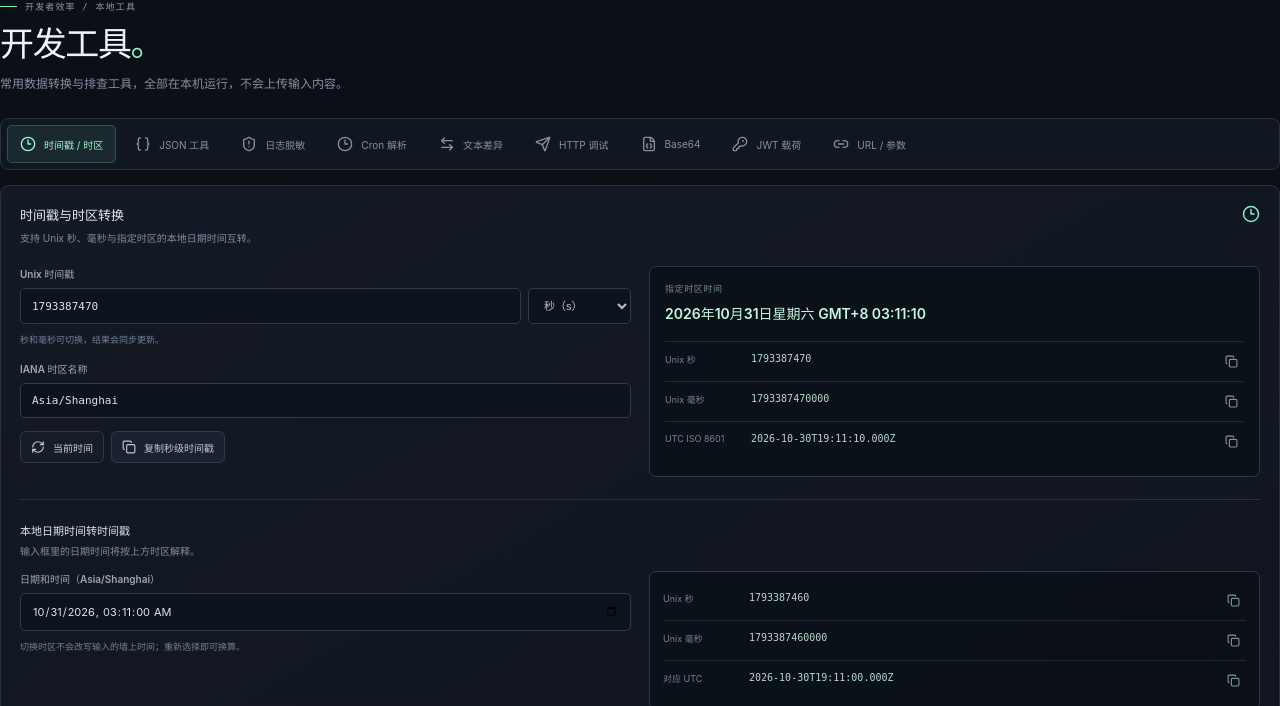
HTTP debugger panel › shows the redirect count, final URL and binary warning
Click the tab with class "toolkit-tab" showing "HTTP 调试" at [572, 144], box [522,125,622,163]
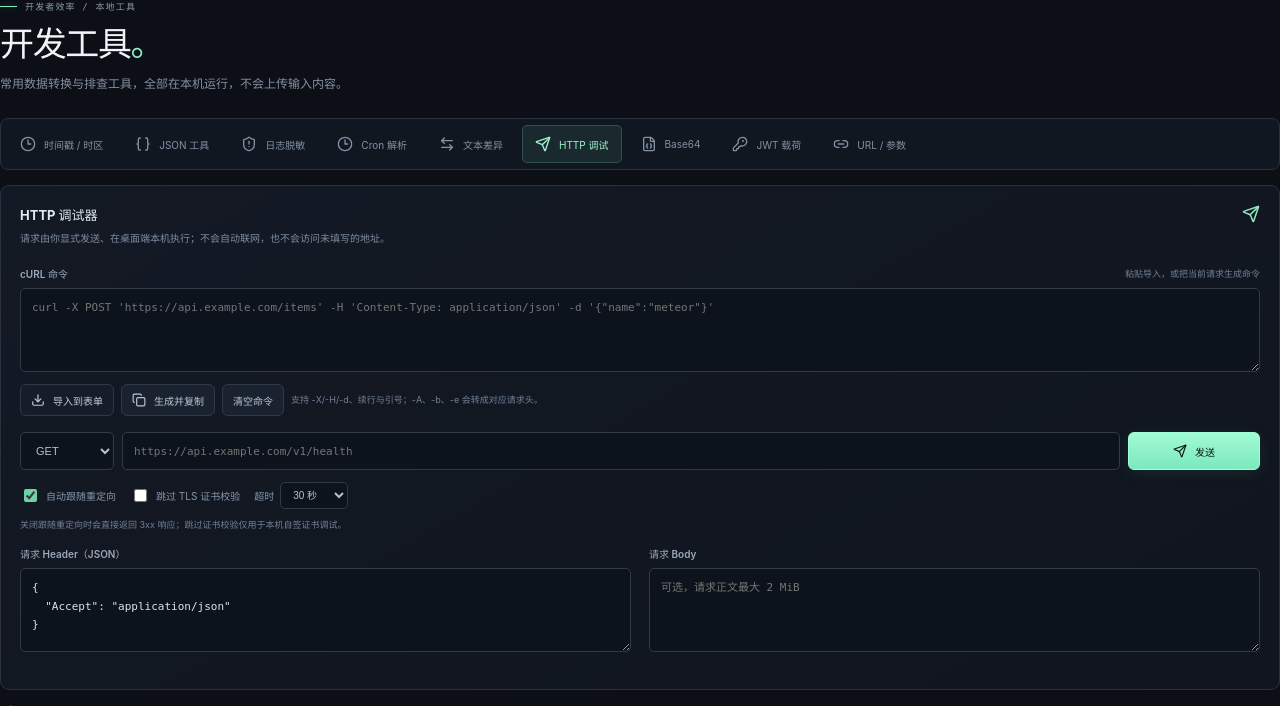
Type "https://example.com/start" into the field named "请求 URL" at [621, 451], box [122,432,1120,470]
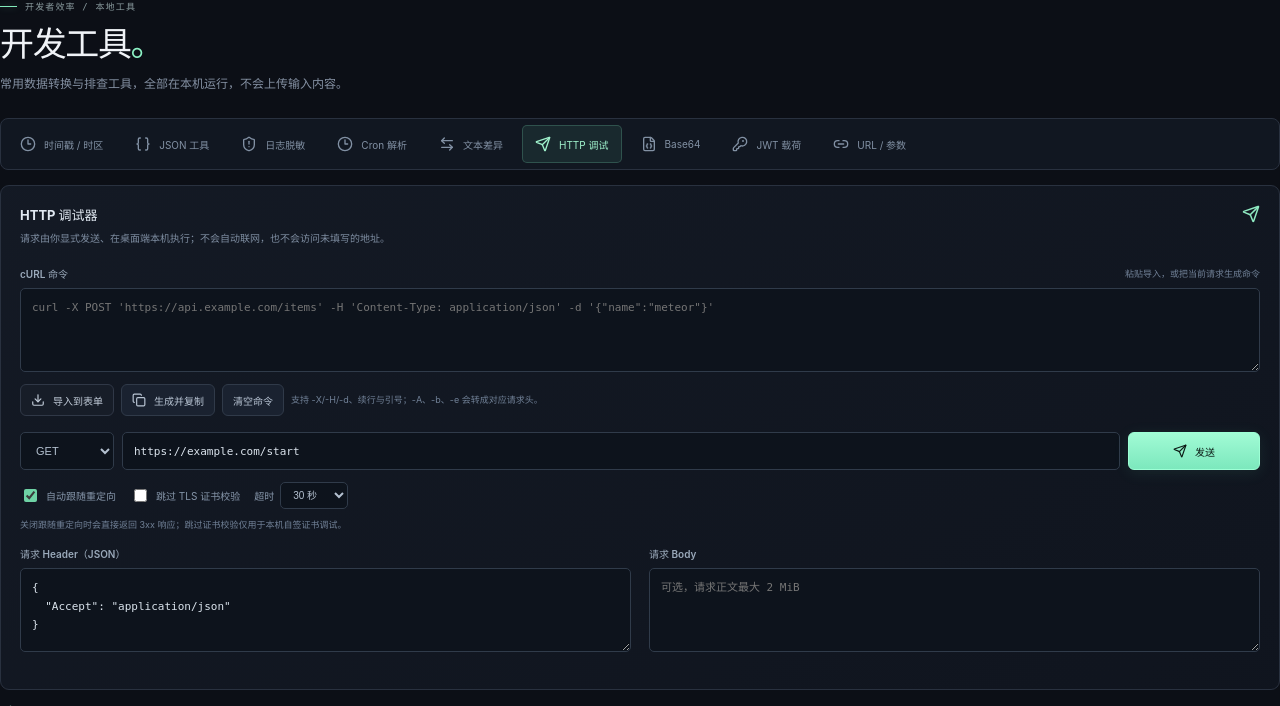
Click the button "发送" at [1194, 451], box [1128,432,1260,470]
(page scrolled)
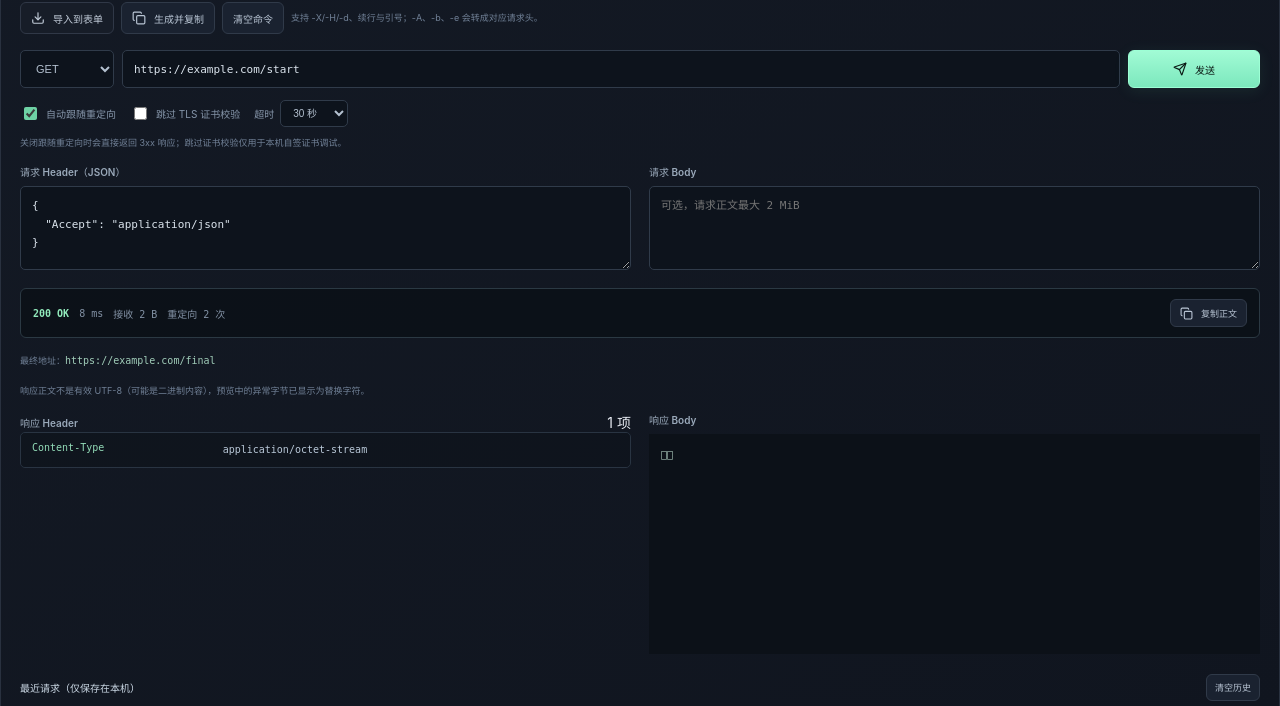
Result: the element with class "http-response-summary" is shown at [20,288,1260,338]
Result: the element with class "http-response-summary" shows "重定向 2 次" at [167,309,225,320]
Result: the text with class "http-final-url" reads "https://example.com/final" at [65,355,216,366]
